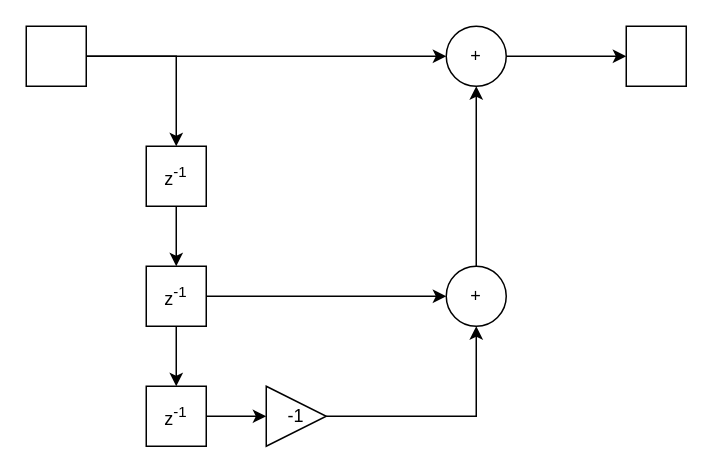
Some shapes in this 713 by 473 pixel diagram are drawn without their labels. Here are the shapes that lost their labels. From the top down, the centre of each, then its label:
At [55,55]: "E(z)".
At [655,55]: "Y(z)".
